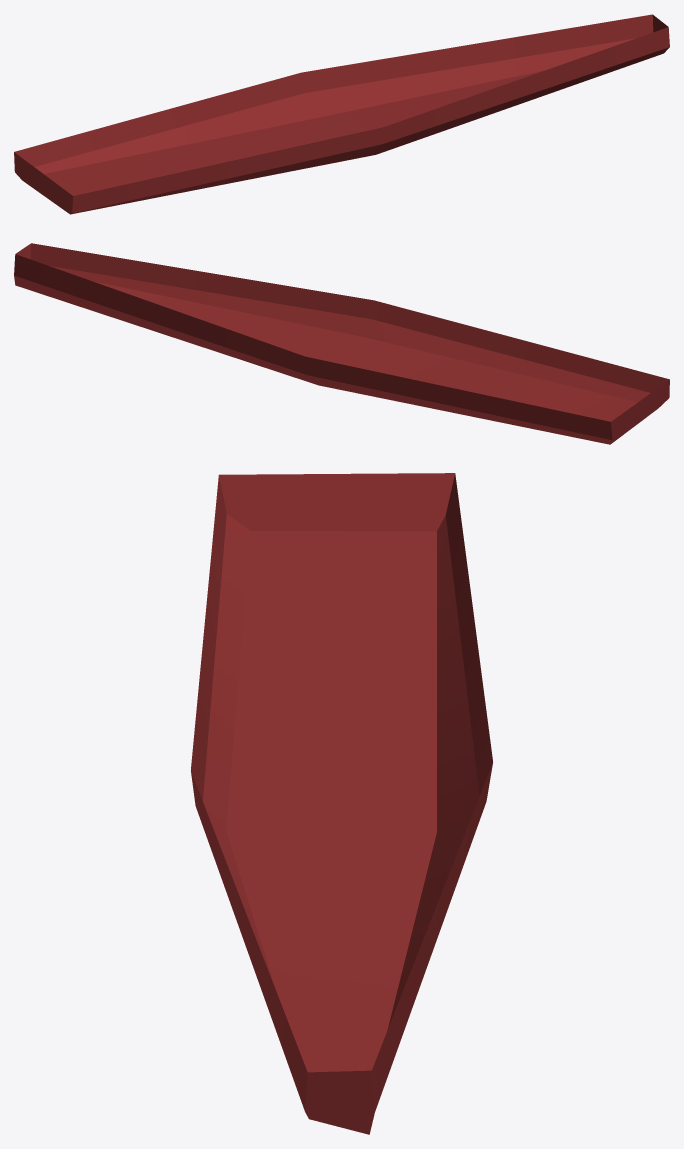
Rendered from basia_proxy.fbx.
The picture shows the model from 3 angles, top to bottom: view 1: azimuth 30°, elevation 25°; view 2: azimuth 150°, elevation 25°; view 3: azimuth 270°, elevation 25°; orthographic projection. The views are drawn at different scales.
Visible parts, largest first — view 1: Hull_proxy; view 2: Hull_proxy; view 3: Hull_proxy.
Boxes of the visible parts, bbox=[...] form: Hull_proxy: bbox=[14, 14, 669, 214]; Hull_proxy: bbox=[14, 243, 669, 444]; Hull_proxy: bbox=[191, 473, 492, 1134].
Size of the model in its own units: 0.00573 by 0.00036 by 0.00122.
